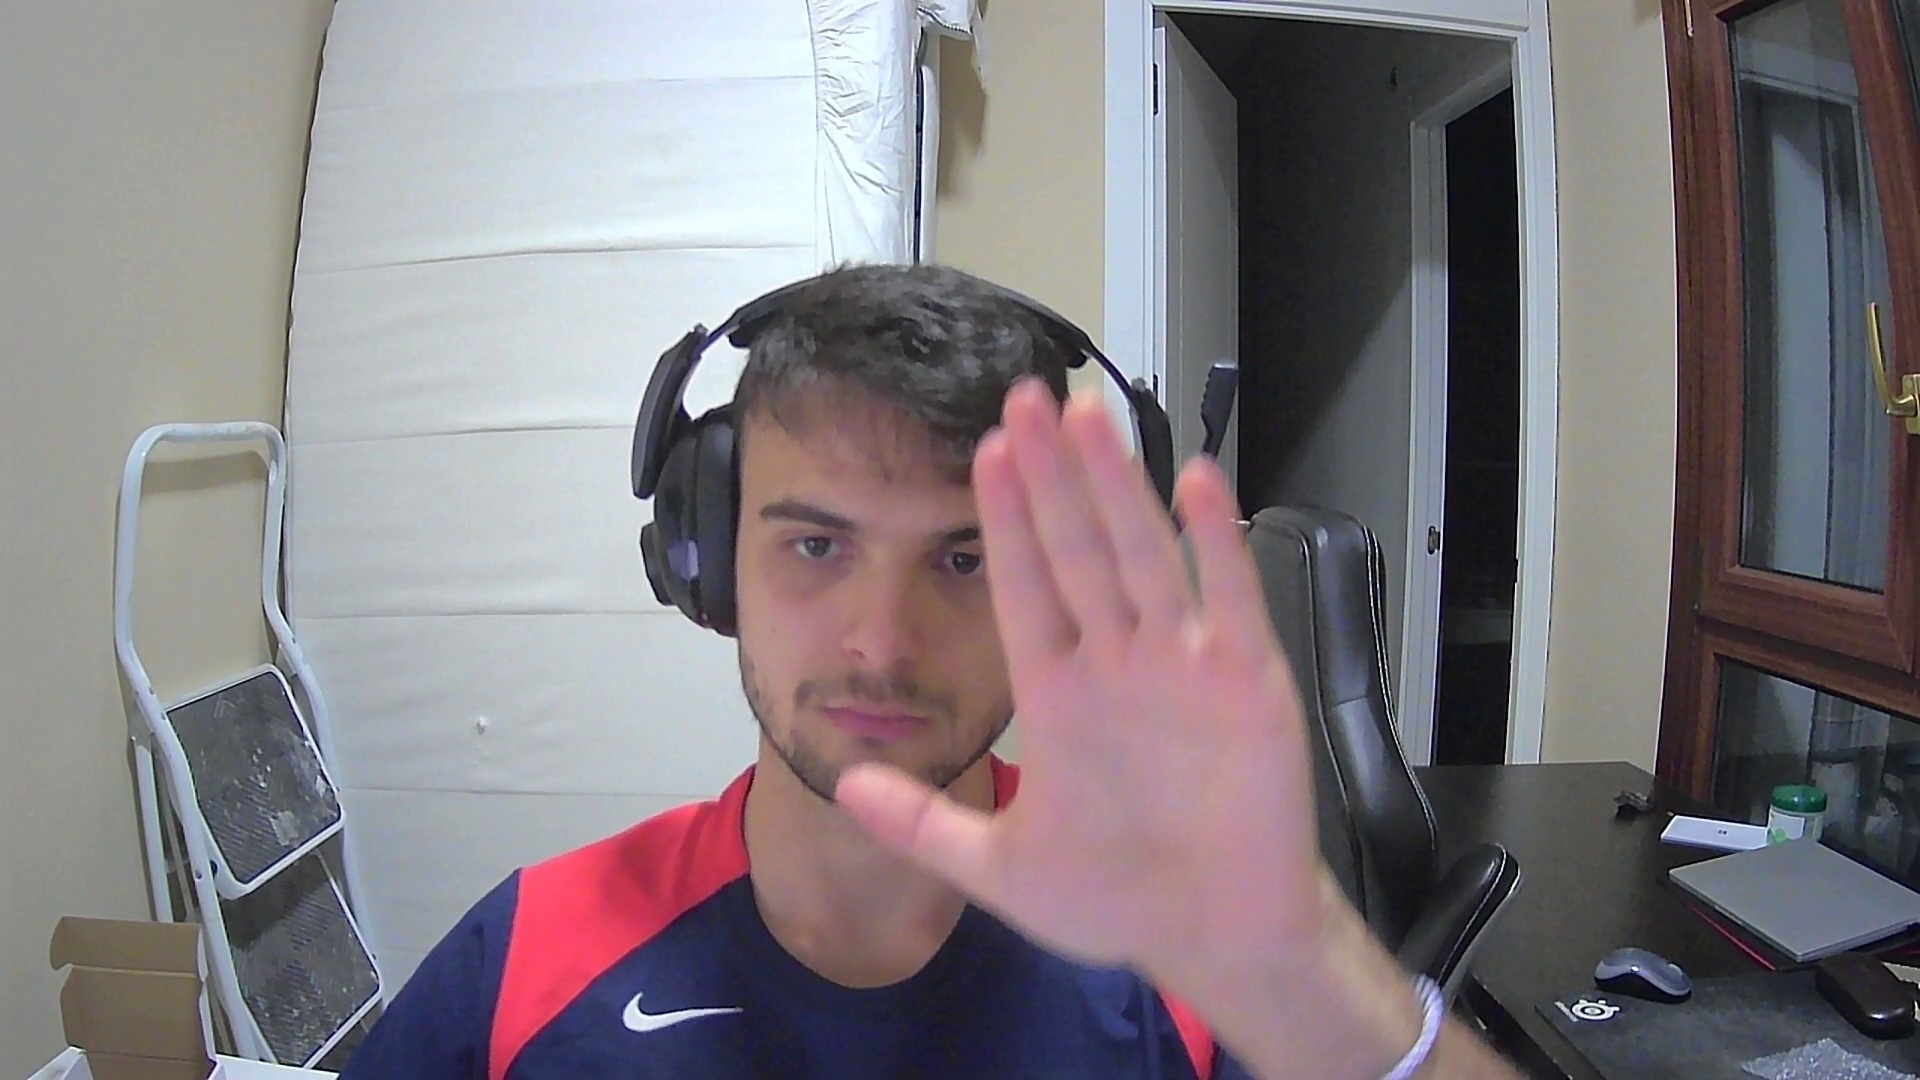Palm: (824, 376, 1324, 1007)
